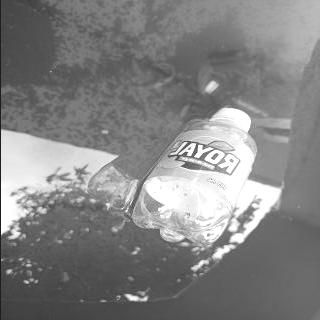bottle: (125, 105, 263, 248)
